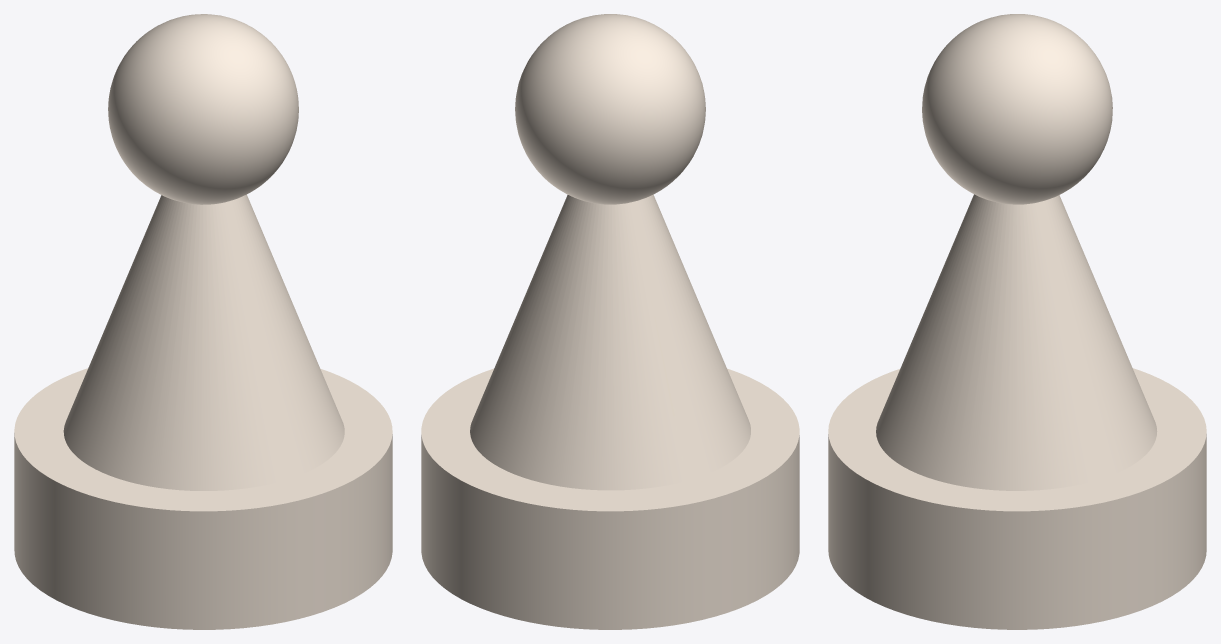
Rendered from pawn.fbx.
The picture shows the model from 3 angles, left to right: view 1: azimuth 30°, elevation 25°; view 2: azimuth 150°, elevation 25°; view 3: azimuth 270°, elevation 25°; orthographic projection.
Parts seen in each view (by area): view 1: node_id6, node_id8, node_id10; view 2: node_id6, node_id8, node_id10; view 3: node_id6, node_id8, node_id10.
Part boxes in pixels (x1,y1,x2,y2): node_id6: [14, 368, 392, 629]; node_id8: [63, 194, 344, 490]; node_id10: [108, 14, 298, 204]; node_id6: [421, 368, 799, 629]; node_id8: [470, 194, 750, 490]; node_id10: [515, 14, 705, 204]; node_id6: [828, 368, 1206, 629]; node_id8: [876, 194, 1157, 490]; node_id10: [922, 14, 1112, 204].
Bounding box in the file's own units: 0.333 × 0.512 × 0.333.
Materials: 3 (3 with a texture image).
